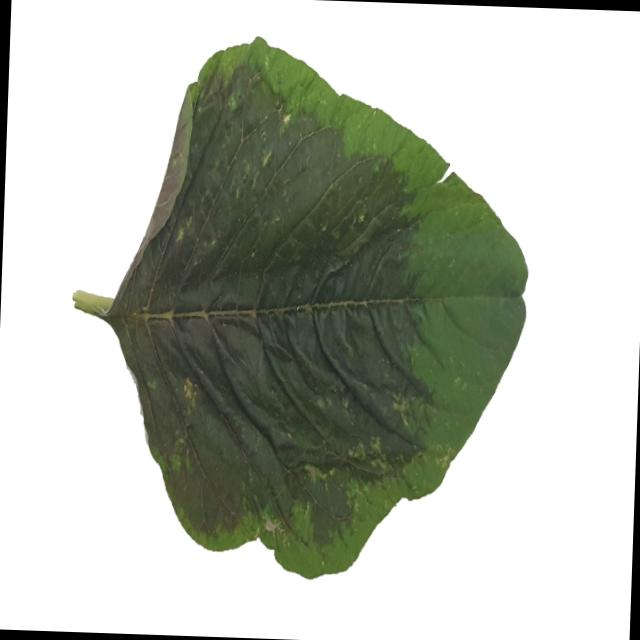Medicinal-Arive Dantu: (64, 27, 536, 584)
